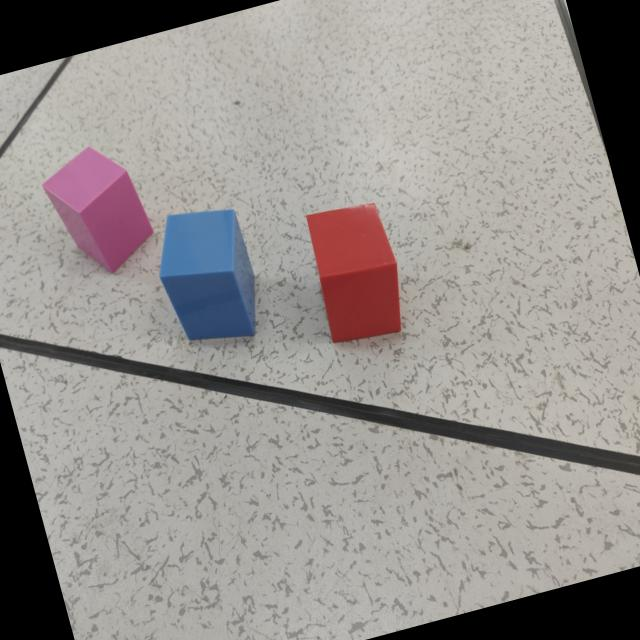blue: (159, 209, 257, 343)
pink: (41, 147, 153, 274)
red: (306, 204, 403, 345)
